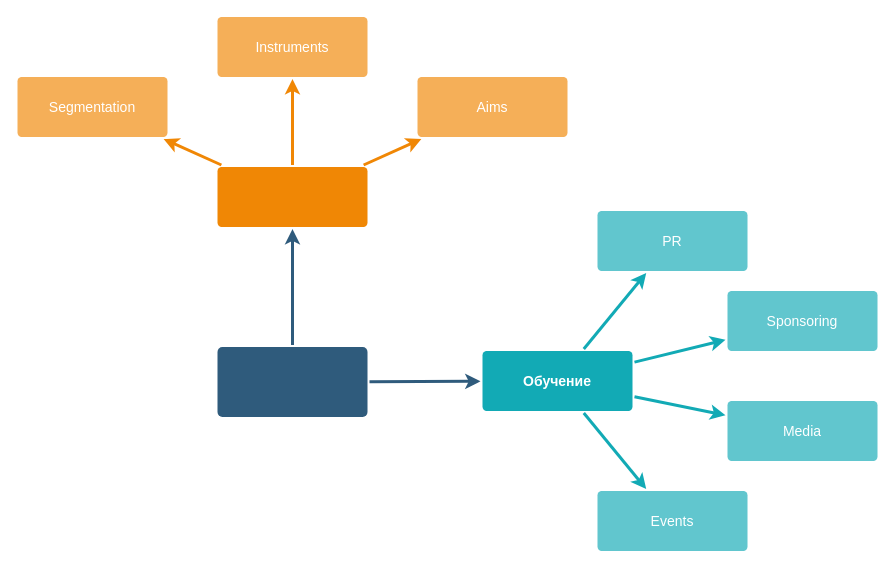
Image size: 894x568. Some labels were removed from this diagram. The centre of each missing label's shape, as x and y in pixels:
"Настройки" goes at (x=292, y=196).
"Пользователь" goes at (x=292, y=381).
